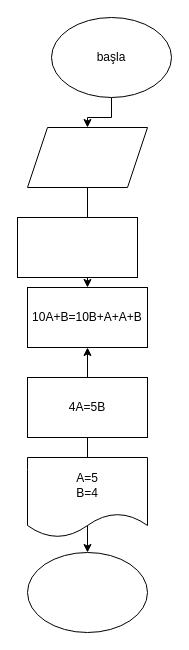
Some shapes in this 189 by 650 pixel diagram are drawn without their labels. Here are the shapes that lost their labels. From the top down, the box of each, then its label:
(26, 126, 148, 188): A B
(16, 216, 138, 278): AB=BA+A+B
